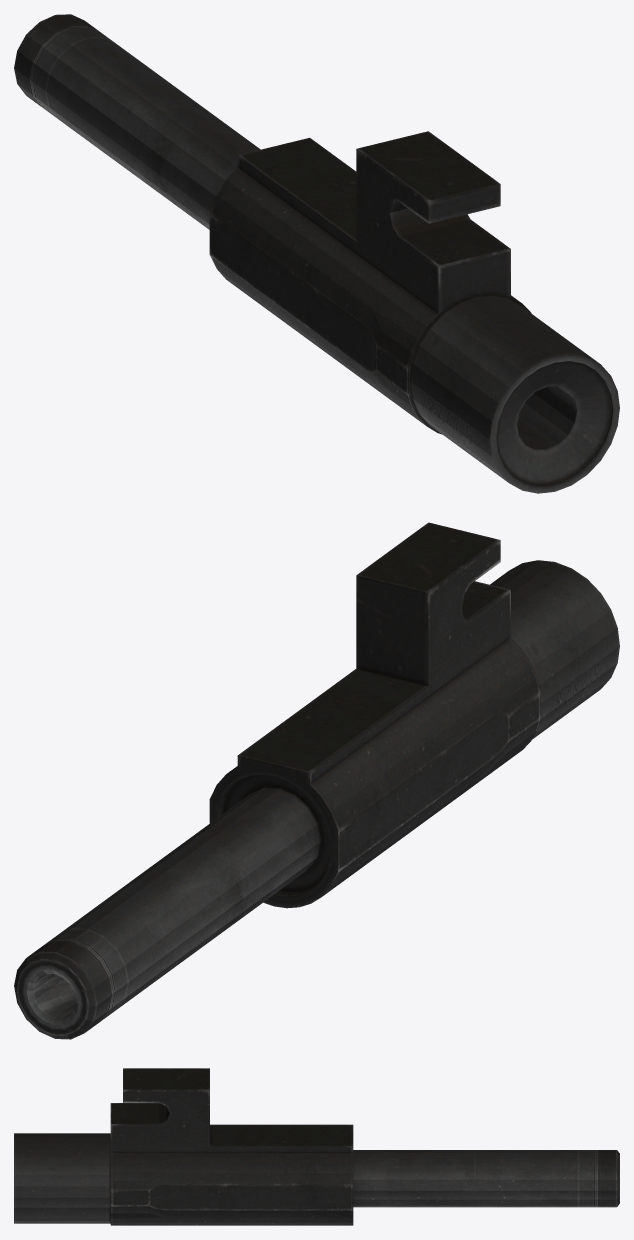
3 renders of one model, top to bottom at view 1: azimuth 30°, elevation 25°; view 2: azimuth 150°, elevation 25°; view 3: azimuth 270°, elevation 25°, orthographic. The views are drawn at different scales.
Visible parts, largest first — view 1: TW_5d3eb5b6a4b9361eab311902_PZ_Import; view 2: TW_5d3eb5b6a4b9361eab311902_PZ_Import; view 3: TW_5d3eb5b6a4b9361eab311902_PZ_Import.
Boxes of the visible parts, <box> form: TW_5d3eb5b6a4b9361eab311902_PZ_Import: <box>14,14,619,493</box>; TW_5d3eb5b6a4b9361eab311902_PZ_Import: <box>14,522,619,1039</box>; TW_5d3eb5b6a4b9361eab311902_PZ_Import: <box>14,1068,619,1225</box>.
Size of the model in its own units: 0.0108 by 0.0708 by 0.0183.
Materials: 1 (1 with a texture image).
